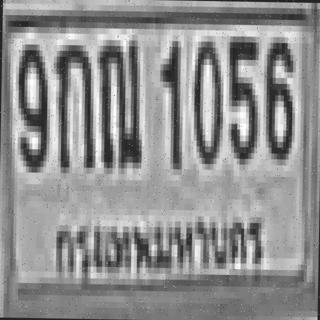A01: (52, 39, 94, 168)
A19: (95, 34, 140, 168)
N00: (190, 36, 221, 164)
N01: (157, 38, 180, 166)
N05: (225, 36, 256, 159)
N06: (262, 34, 294, 156)
N09: (14, 38, 48, 167)
P04: (42, 196, 270, 284)
